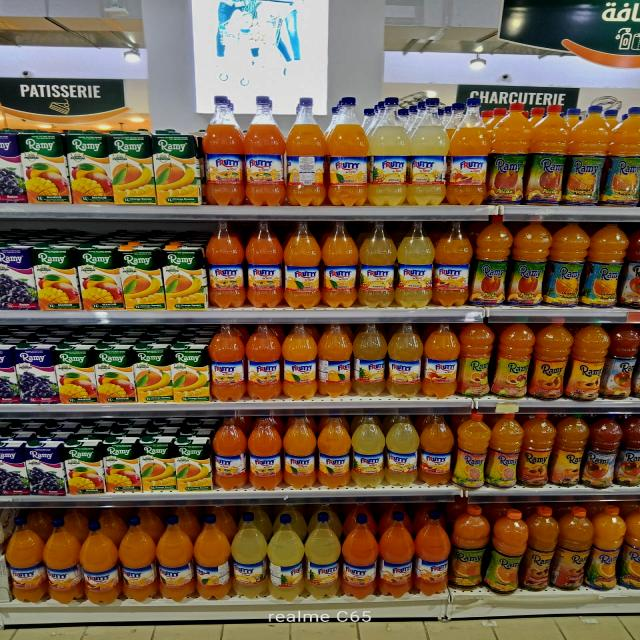PET Frutty orange 125L: (204, 144, 243, 191), (291, 150, 327, 190), (46, 558, 82, 598), (245, 152, 283, 186), (120, 560, 157, 591), (289, 261, 322, 294), (197, 558, 231, 590), (319, 353, 350, 387), (334, 152, 365, 185), (326, 262, 357, 294), (284, 451, 318, 480), (160, 560, 195, 588), (85, 564, 117, 593), (285, 360, 315, 388), (320, 451, 350, 479)
PET Frutty orange peche 125L: (451, 152, 490, 189), (211, 261, 247, 291), (382, 556, 412, 592), (426, 352, 452, 393), (437, 260, 466, 296), (248, 360, 281, 389), (419, 557, 449, 588), (344, 560, 374, 590), (423, 448, 450, 480), (210, 360, 245, 384), (249, 454, 282, 478), (252, 263, 278, 289), (217, 456, 244, 478)
Pack Ramy Orange 125L: (452, 515, 486, 586), (492, 514, 522, 593), (596, 507, 623, 589), (624, 503, 639, 591)
Pack Ramy Peche 125 L: (531, 110, 563, 209), (512, 217, 546, 302), (494, 108, 524, 204), (473, 220, 502, 306)
Pet Ramy Orange ananas 125L: (573, 116, 604, 203), (589, 227, 621, 307), (612, 110, 639, 201), (558, 226, 580, 305)
Premium Pack Ramy mangue peche1L: (16, 132, 66, 206), (63, 132, 114, 203), (32, 248, 78, 308), (79, 247, 123, 308), (56, 346, 97, 405), (98, 344, 135, 404), (102, 438, 142, 491), (64, 442, 104, 494)
Premium Pack Ramy raisin1L: (15, 345, 55, 403), (2, 242, 32, 309), (30, 441, 64, 497), (1, 131, 22, 205), (1, 440, 27, 494), (2, 343, 16, 405)
frutty frutty annanas 125L: (368, 155, 410, 191), (396, 258, 432, 298), (413, 150, 450, 188), (361, 260, 393, 299), (306, 554, 339, 590), (387, 355, 420, 387), (269, 557, 302, 589), (233, 561, 270, 587), (352, 447, 381, 477), (354, 356, 385, 384), (389, 447, 418, 476)
pet ramy agrumes 125L: (464, 415, 486, 485), (494, 416, 514, 480)
pet ramy orange peche 125 L: (558, 502, 590, 590), (524, 506, 555, 588), (457, 327, 494, 394), (498, 327, 530, 394), (578, 330, 606, 402), (542, 322, 568, 399), (521, 419, 549, 482), (558, 419, 585, 480)
pet ramy peche pomme poire 125L: (608, 323, 634, 402), (592, 422, 618, 489), (619, 418, 638, 483)
premium Pack Ramy orange banane: (158, 132, 198, 204), (117, 134, 156, 203), (169, 246, 204, 314), (127, 246, 161, 312), (140, 438, 178, 494), (138, 344, 172, 399), (180, 438, 213, 493), (171, 343, 203, 398)
